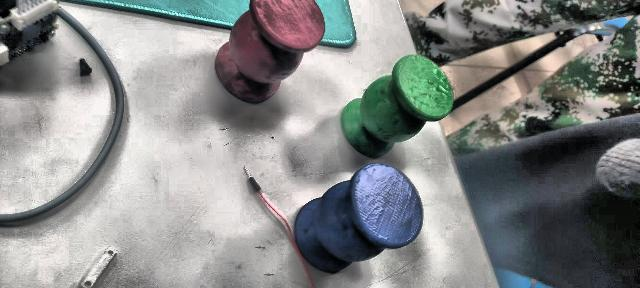blue: (294, 162, 422, 274)
green: (339, 54, 454, 156)
red: (213, 0, 329, 111)
